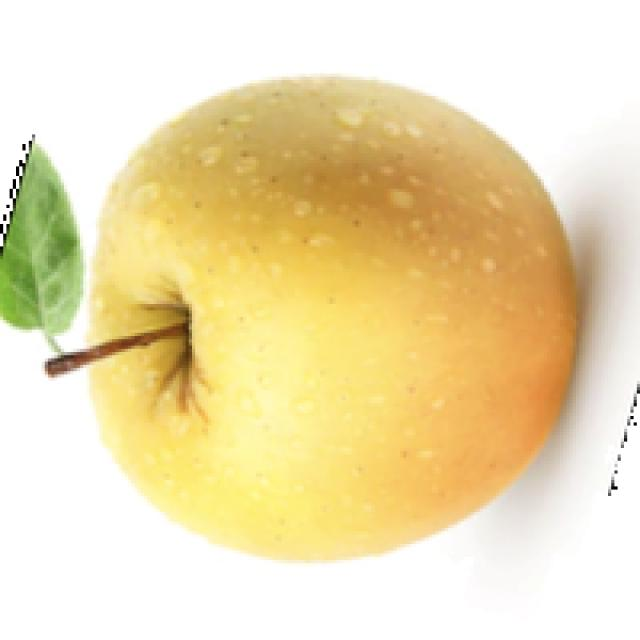apple: (0, 70, 634, 566)
